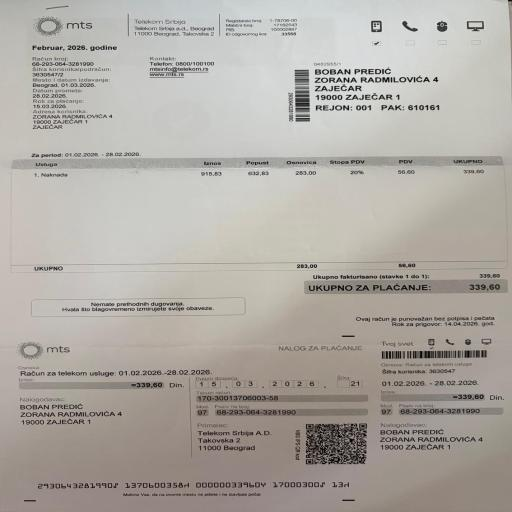mts: (20, 156, 496, 181)
mts_iznos: (308, 284, 507, 294)
mts_uplatnica: (378, 377, 508, 420)
